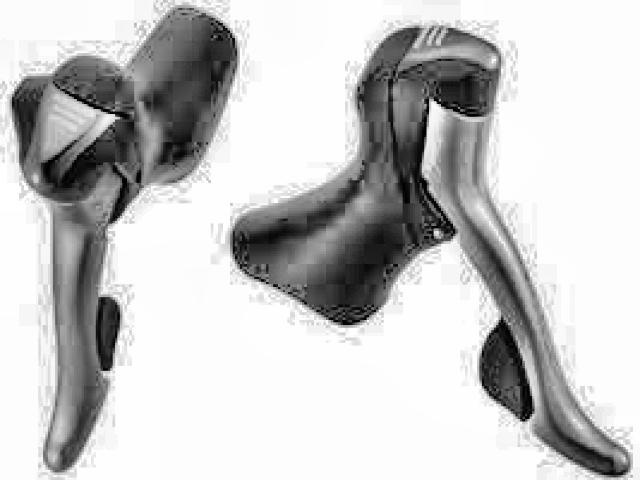sti_shifter: (243, 22, 632, 476), (7, 10, 231, 474)
